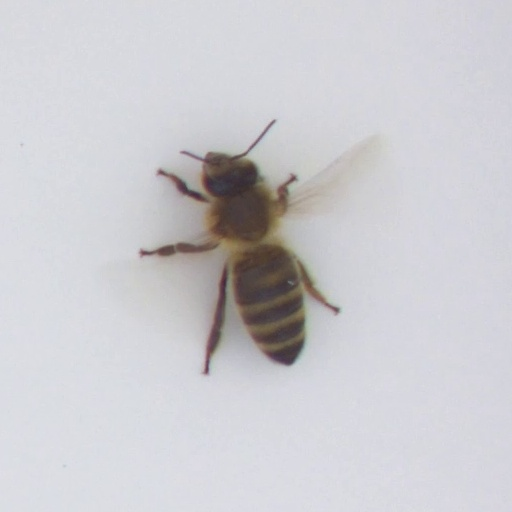Bee: (178, 136, 333, 376)
Thorax: (206, 189, 275, 244)
